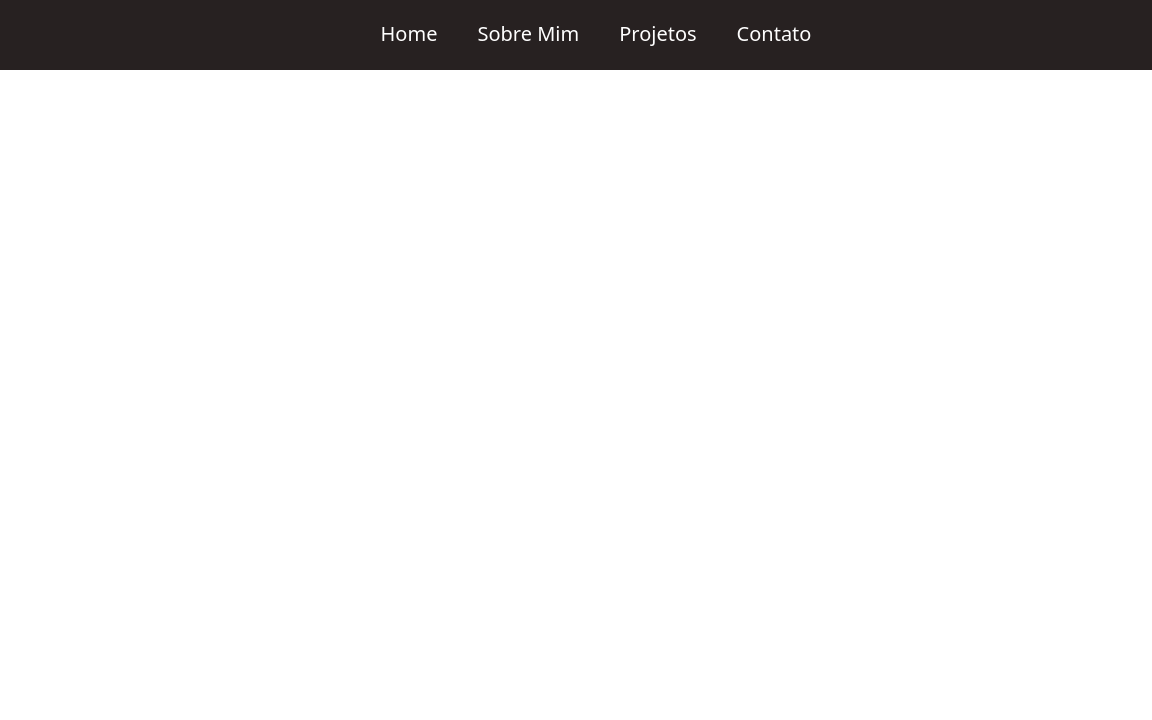
Scenario: routes › should render the about page
The width and height of the screenshot is (1152, 720).
Click the link "Sobre Mim".
click(528, 34)  # box [477, 20, 579, 47]
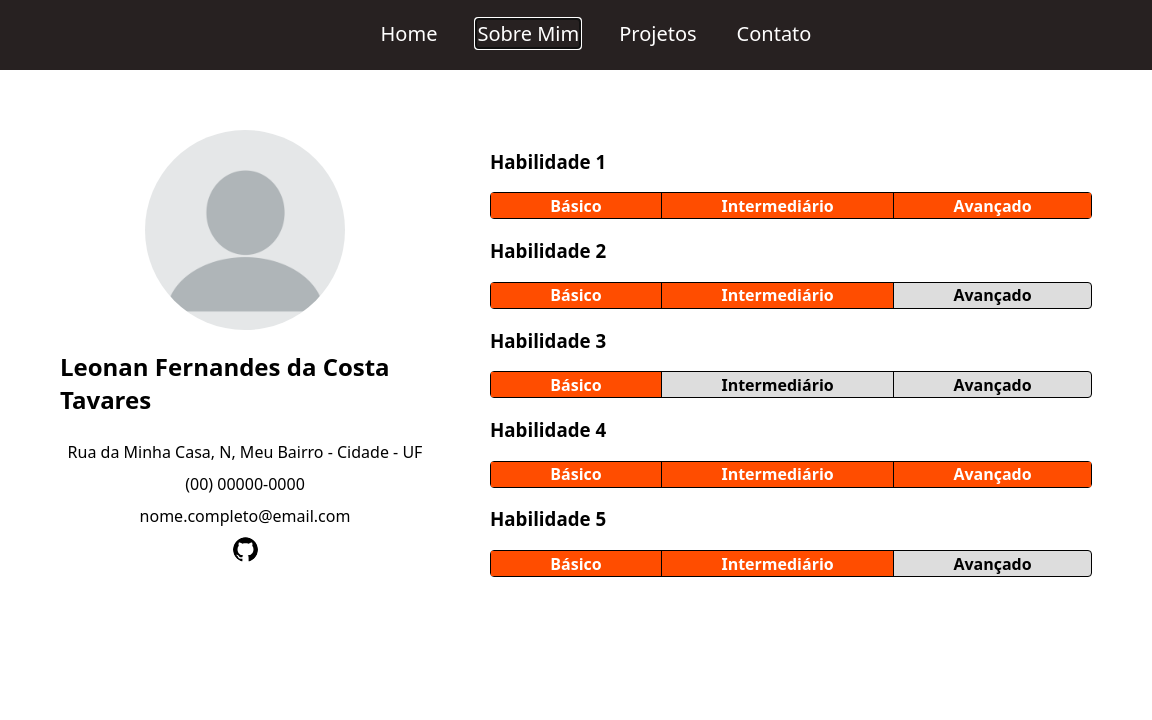
Result: the picture with alt text "GitHub" is shown at [232, 537, 258, 562]
